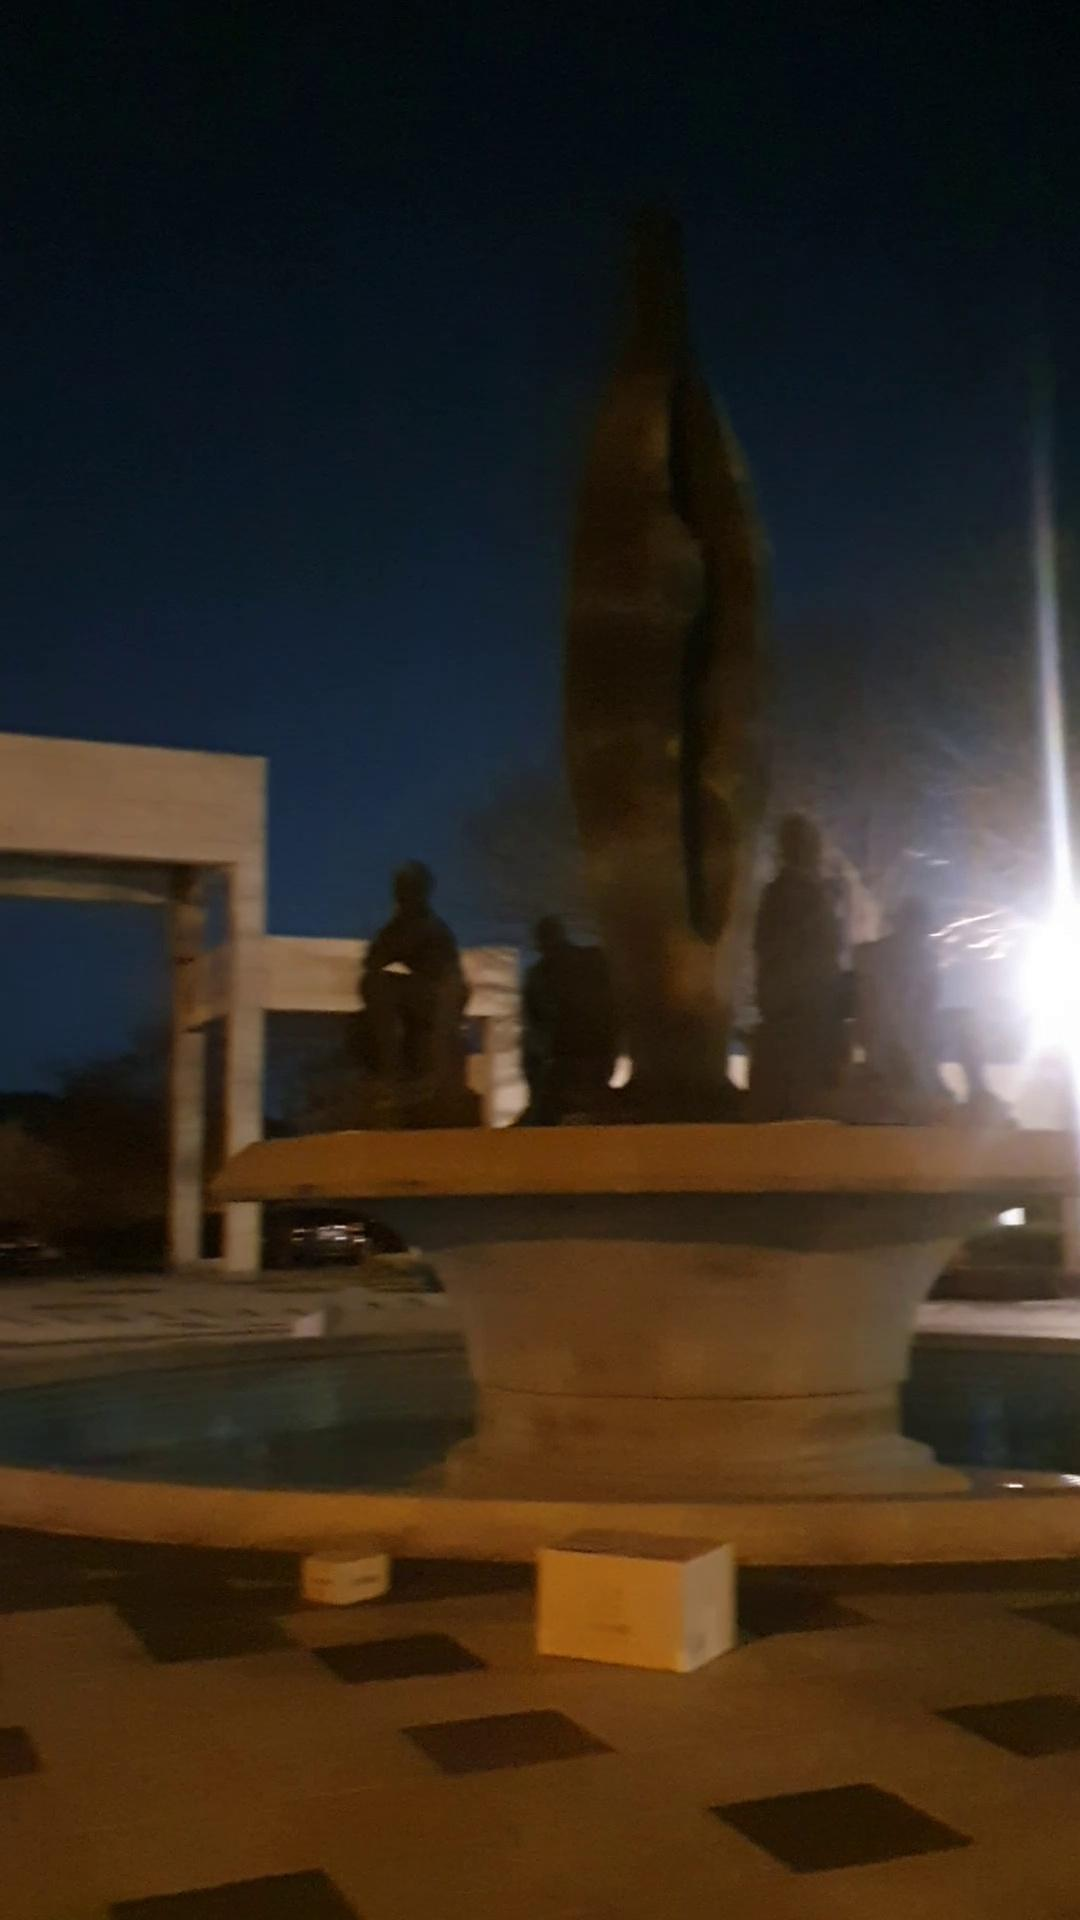Box: (506, 1520, 757, 1705), (278, 1548, 410, 1607)
